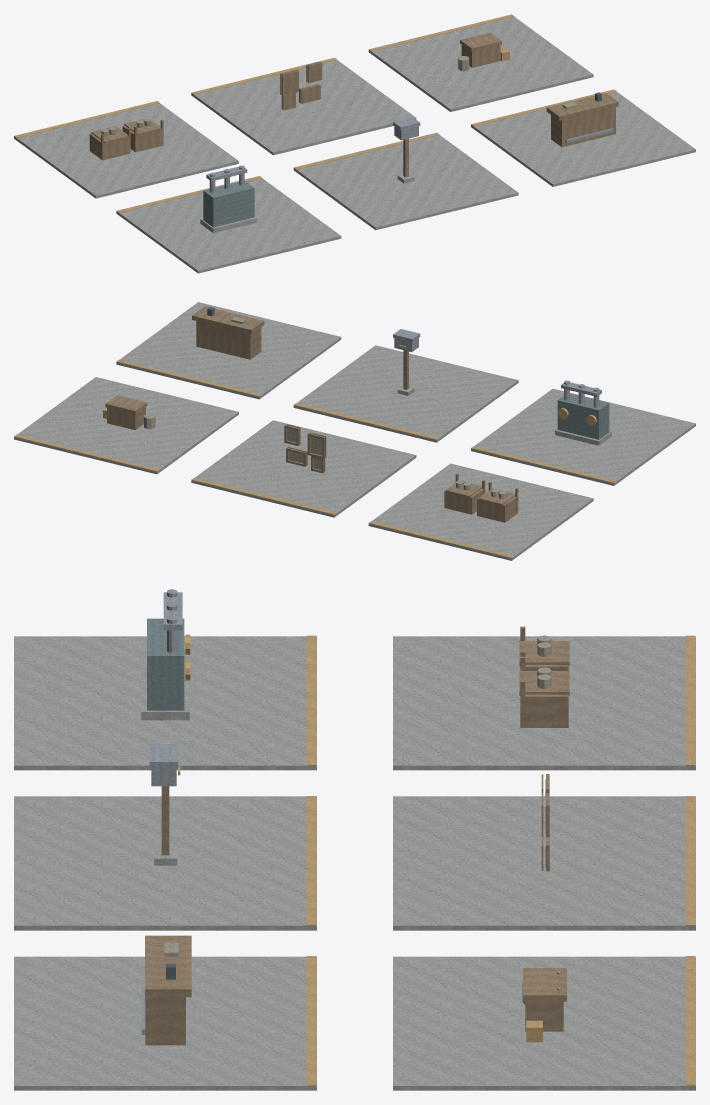
File: level_blockout_kit_house_p01.glb
3 renders of one model, top to bottom at view 1: azimuth 30°, elevation 25°; view 2: azimuth 150°, elevation 25°; view 3: azimuth 270°, elevation 25°, orthographic. The views are drawn at different scales.
Visible parts, largest first — view 1: level_blockout_kit_house_p01; view 2: level_blockout_kit_house_p01; view 3: level_blockout_kit_house_p01.
Part boxes in pixels (x1=…): level_blockout_kit_house_p01: x1=14, y1=14, x2=695, y2=273; level_blockout_kit_house_p01: x1=14, y1=302, x2=695, y2=560; level_blockout_kit_house_p01: x1=14, y1=589, x2=695, y2=1090.
Size of the model in its own units: 19.65 by 2.3 by 12.6.
7 materials, 7 textured.
